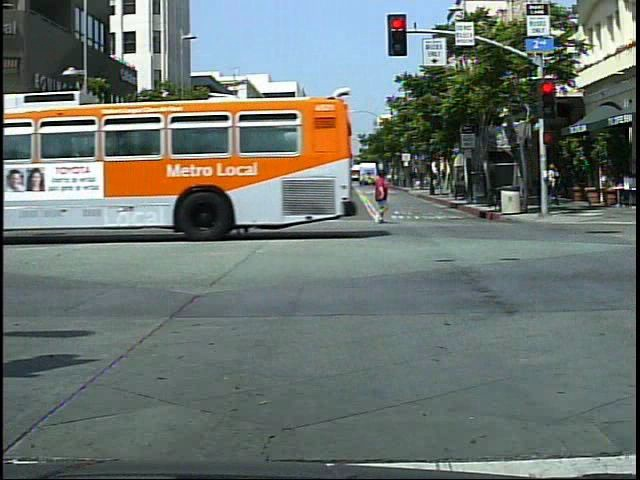person: (262, 165, 293, 229), (155, 169, 185, 235), (375, 167, 393, 227), (547, 161, 563, 210)
